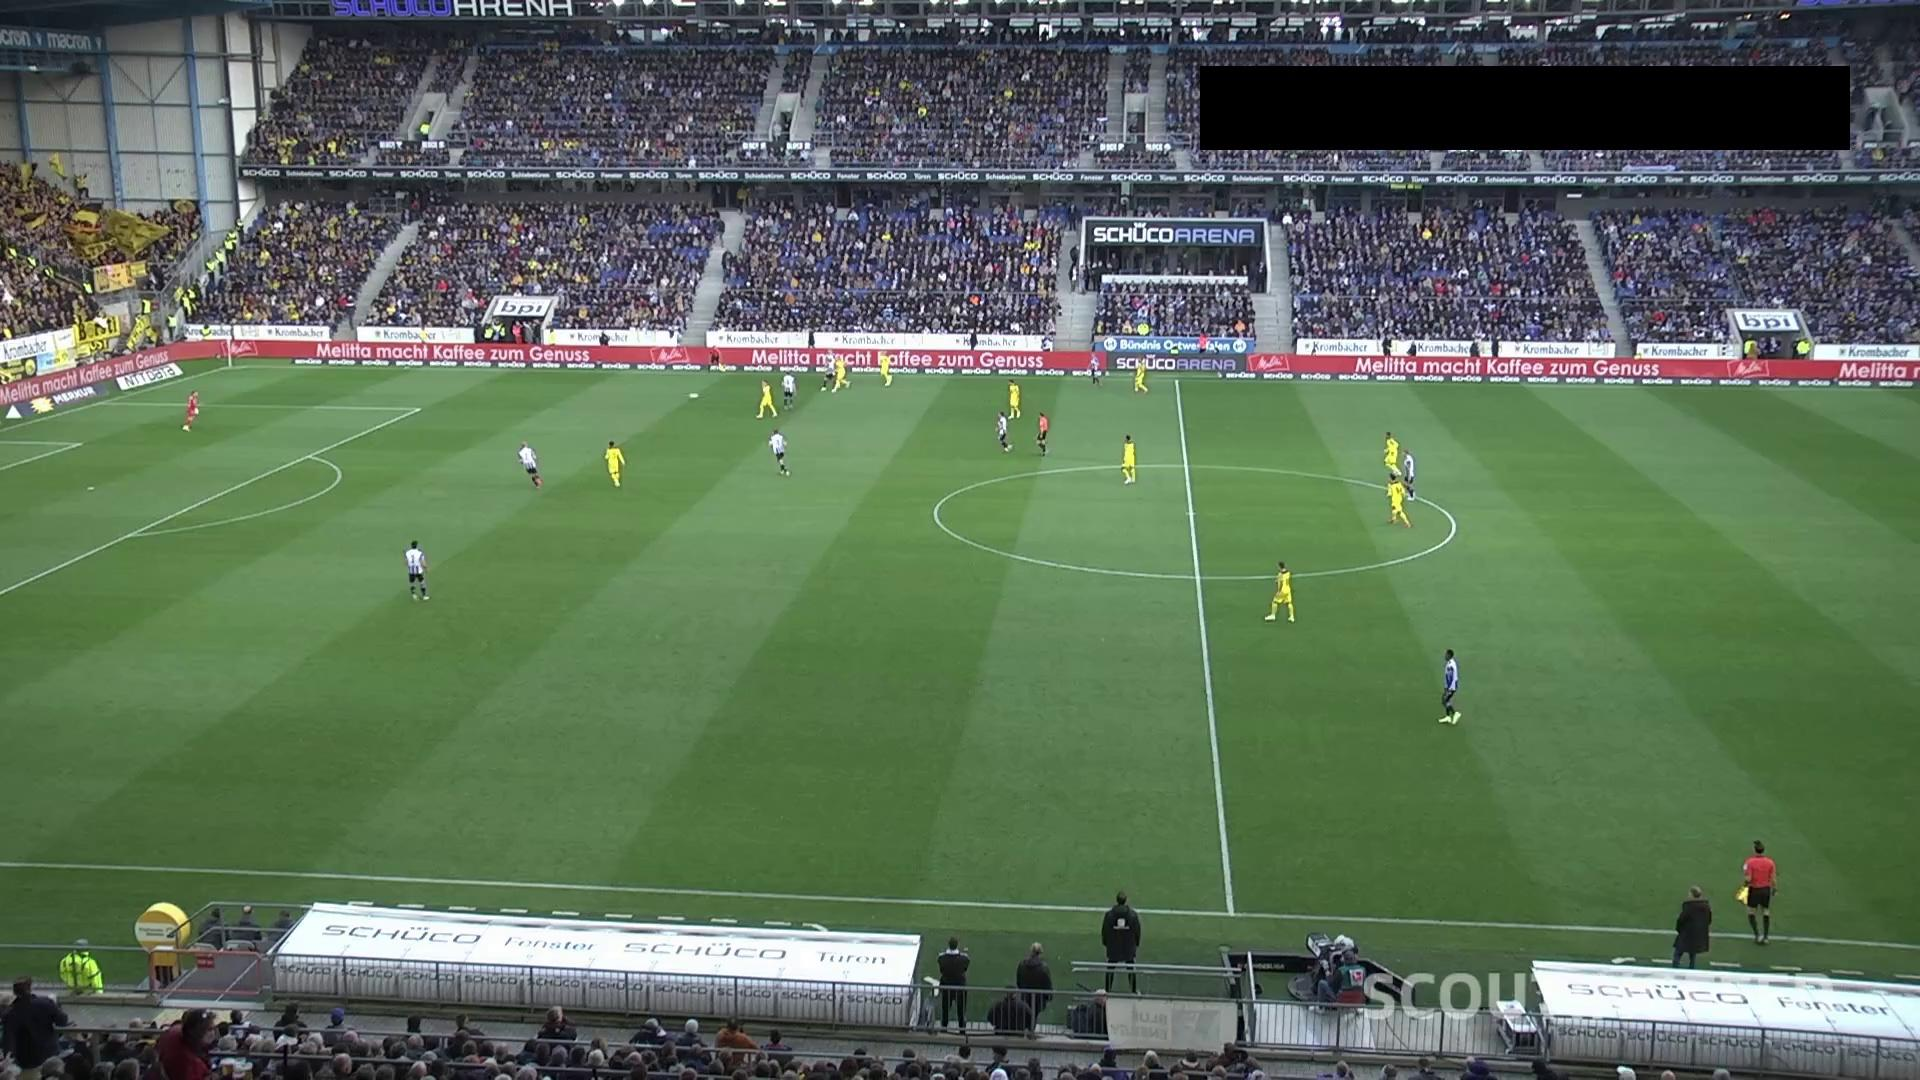Location-of-ball: (686, 388, 711, 405)
